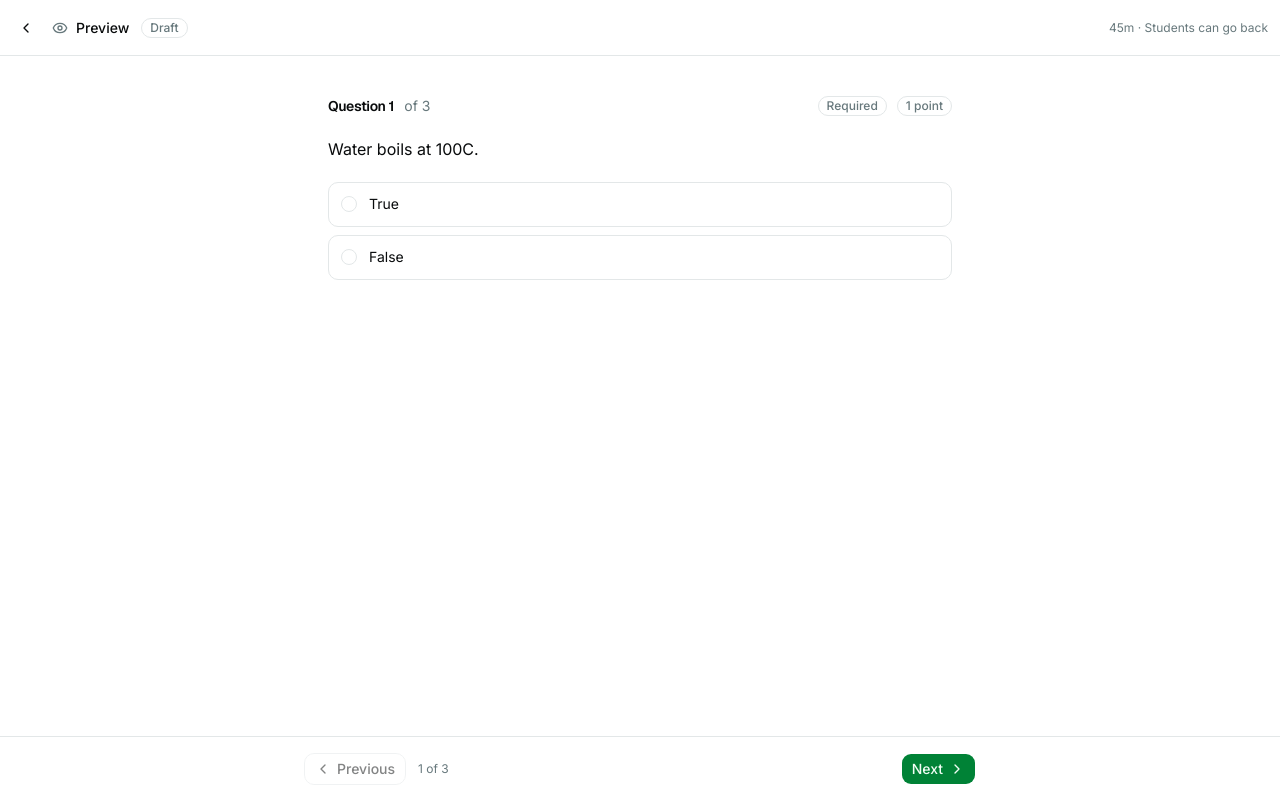
Scenario: one question per page › offers Submit instead of Next on the last question
Click the button "Next": (938, 768) 901,752 -> 976,784
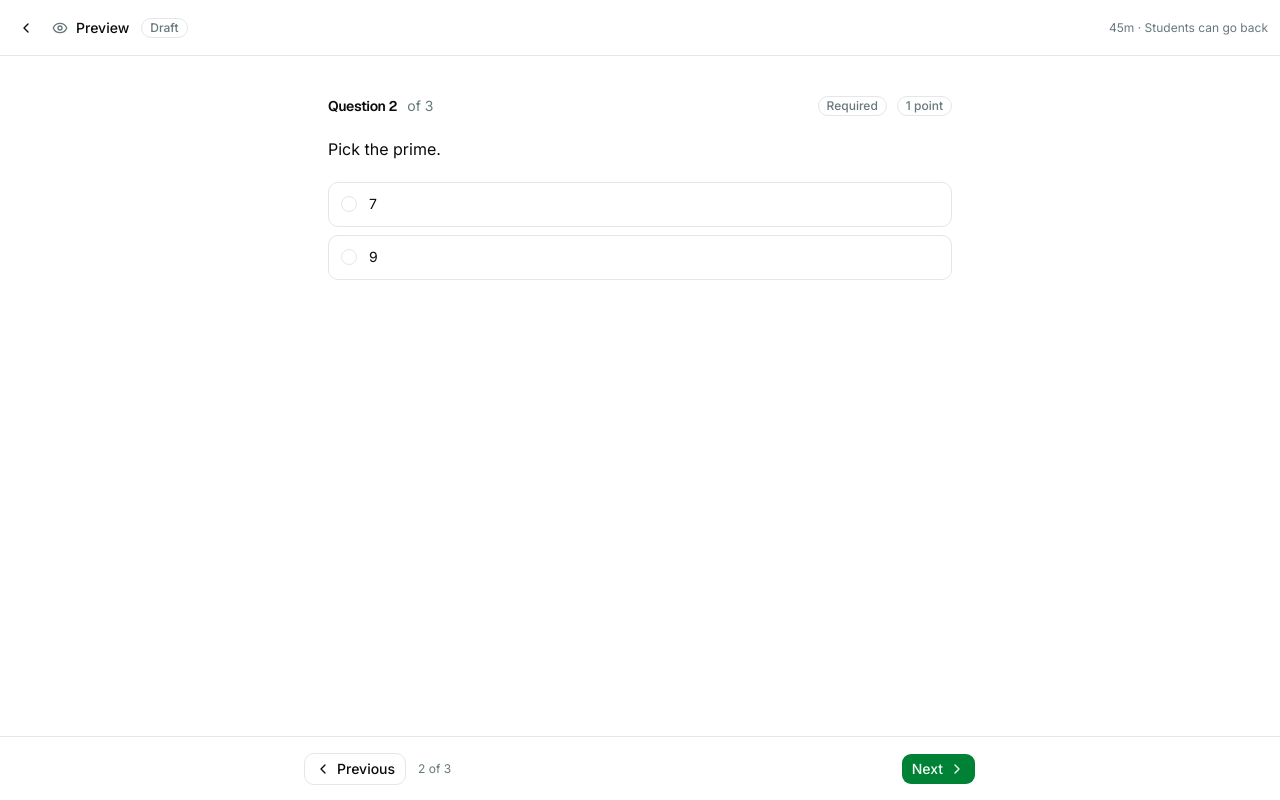
Click the button "Next": (938, 768) 901,752 -> 976,784
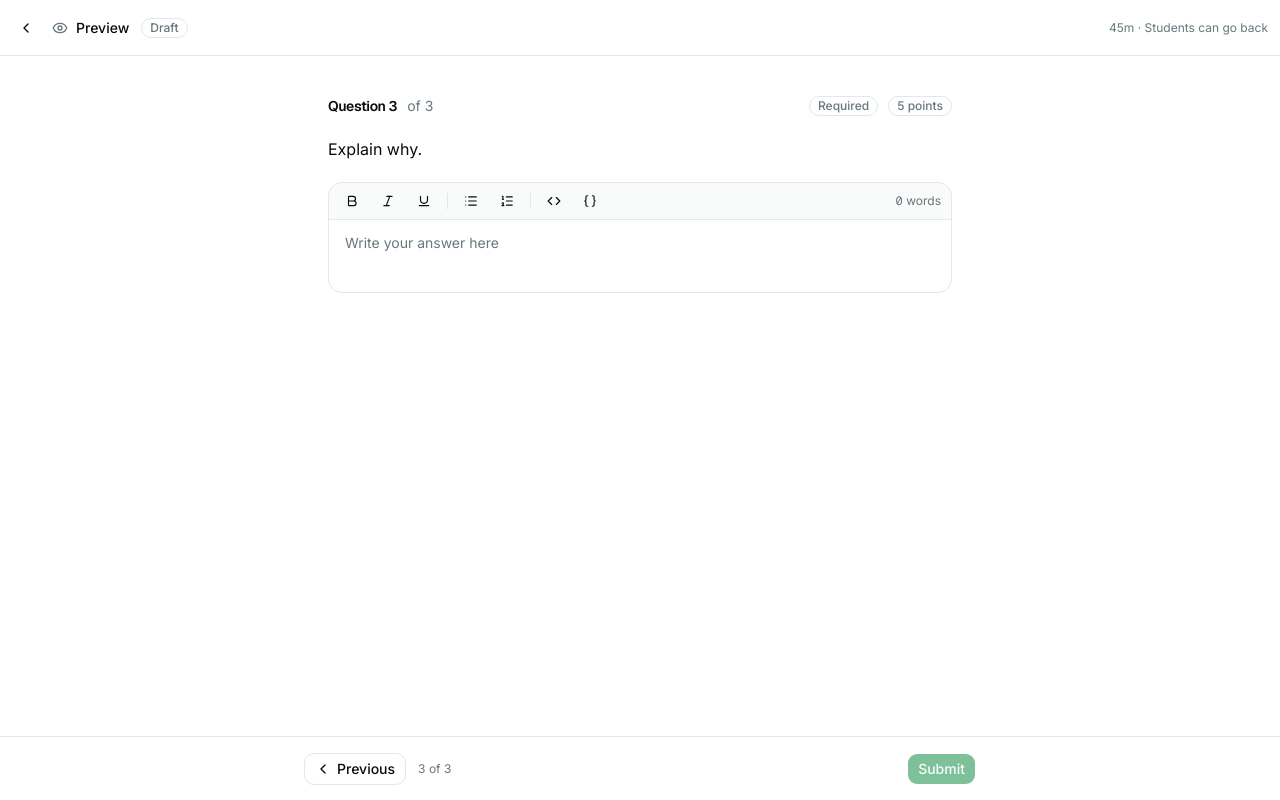
expect the button "Submit" is disabled: met, box 907,752 -> 976,784
